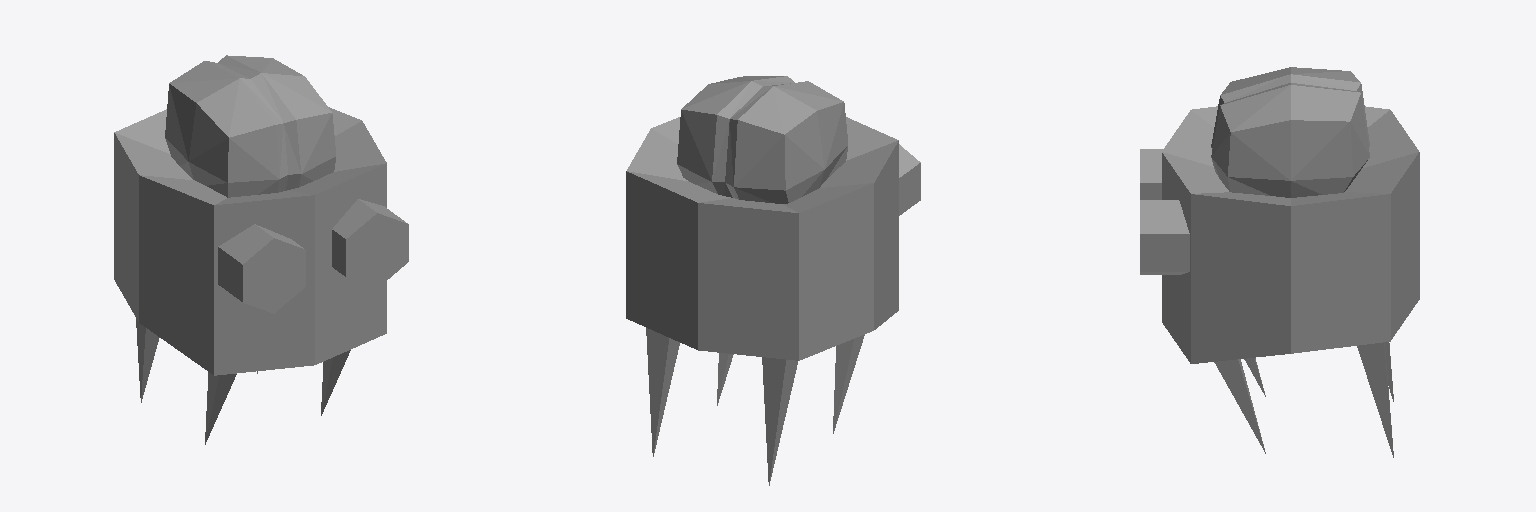
Rendered from brain-robot.obj.
The picture shows the model from 3 angles: view 1: azimuth 30°, elevation 25°; view 2: azimuth 150°, elevation 25°; view 3: azimuth 270°, elevation 25°; orthographic projection.
Parts seen in each view (by area): view 1: Brain-Robot_Cube; view 2: Brain-Robot_Cube; view 3: Brain-Robot_Cube.
Boxes of the visible parts, x1,y1,x2,y2 form: Brain-Robot_Cube: [114, 55, 408, 444]; Brain-Robot_Cube: [626, 76, 920, 485]; Brain-Robot_Cube: [1140, 67, 1419, 457].
Size of the model in its own units: 3.09 by 4.66 by 3.34.